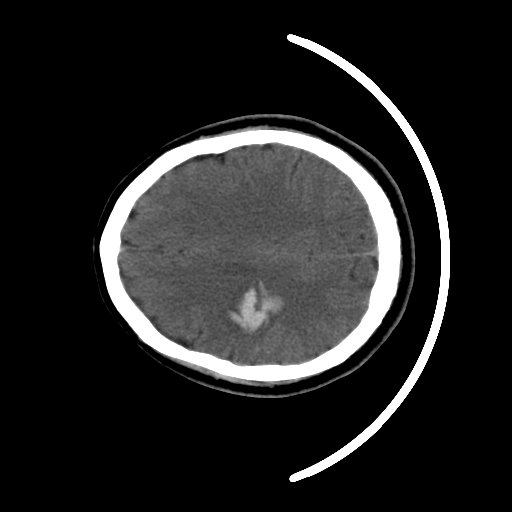a: (216, 267, 296, 348)
